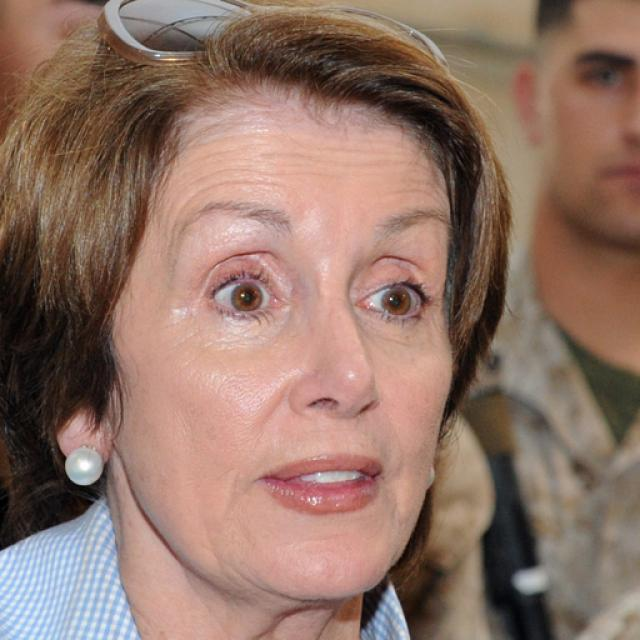surprise: (110, 100, 456, 604)
